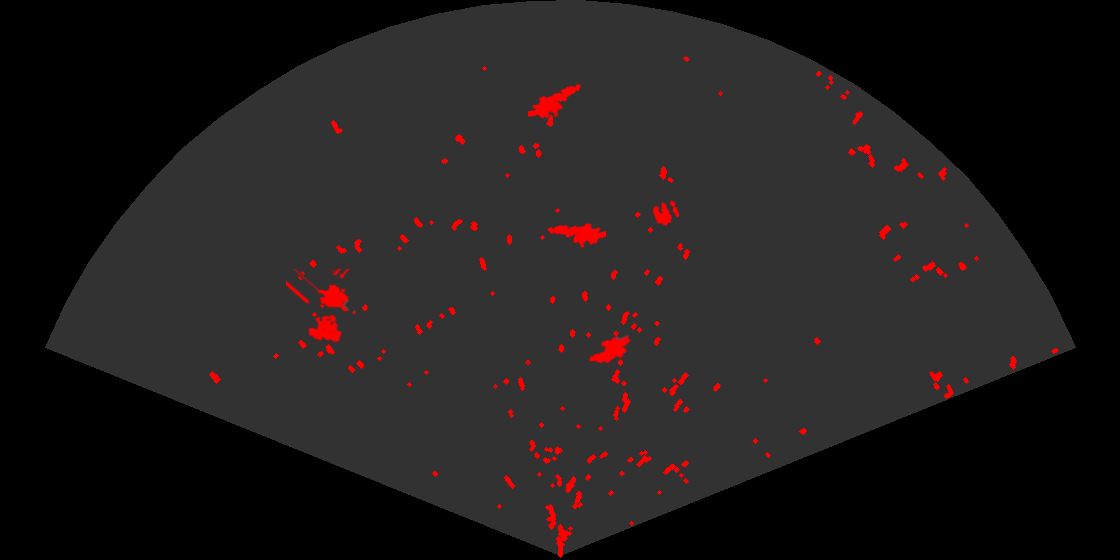AUV: (587, 334, 632, 365)
ball: (651, 199, 681, 227)
cage: (286, 269, 358, 344)
frogman: (528, 83, 583, 120), (545, 222, 606, 250)
